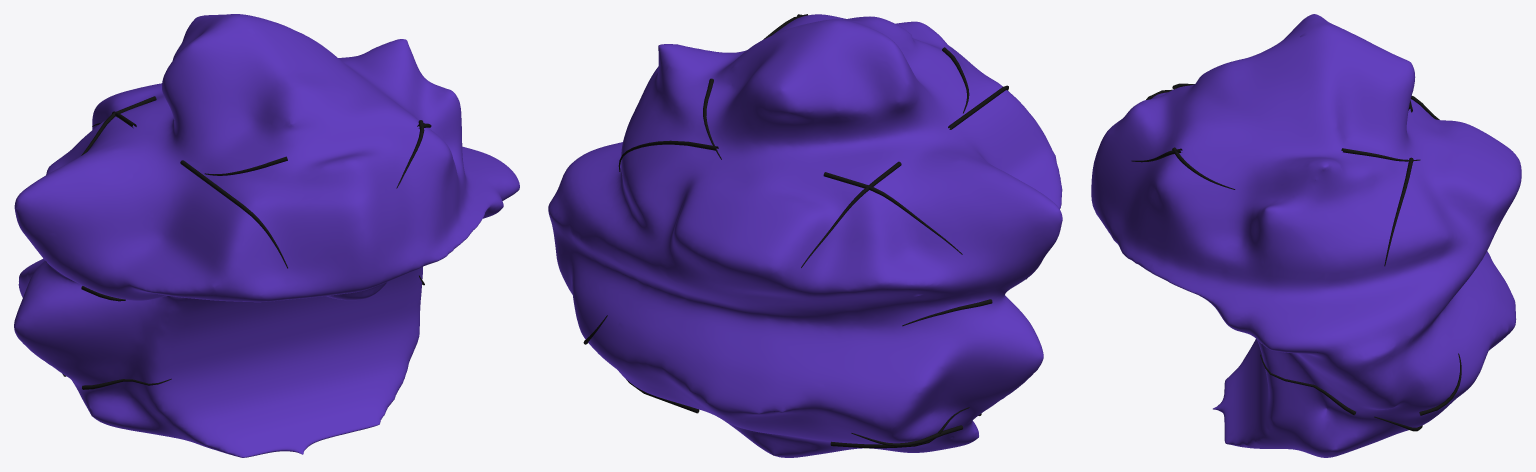
The model's file is hair.glb.
3 renders of one model, left to right at view 1: azimuth 30°, elevation 25°; view 2: azimuth 150°, elevation 25°; view 3: azimuth 270°, elevation 25°, orthographic. The views are drawn at different scales.
Visible parts, largest first — view 1: hair, ink; view 2: hair, ink; view 3: hair, ink.
Boxes of the visible parts, x1,y1,x2,y2 form: hair: (14, 14, 519, 457); ink: (46, 96, 431, 389); hair: (548, 14, 1062, 457); ink: (583, 14, 1026, 448); hair: (1091, 14, 1521, 457); ink: (1131, 83, 1461, 431).
Bounding box in the file's own units: 3.39 × 2.67 × 2.74.
